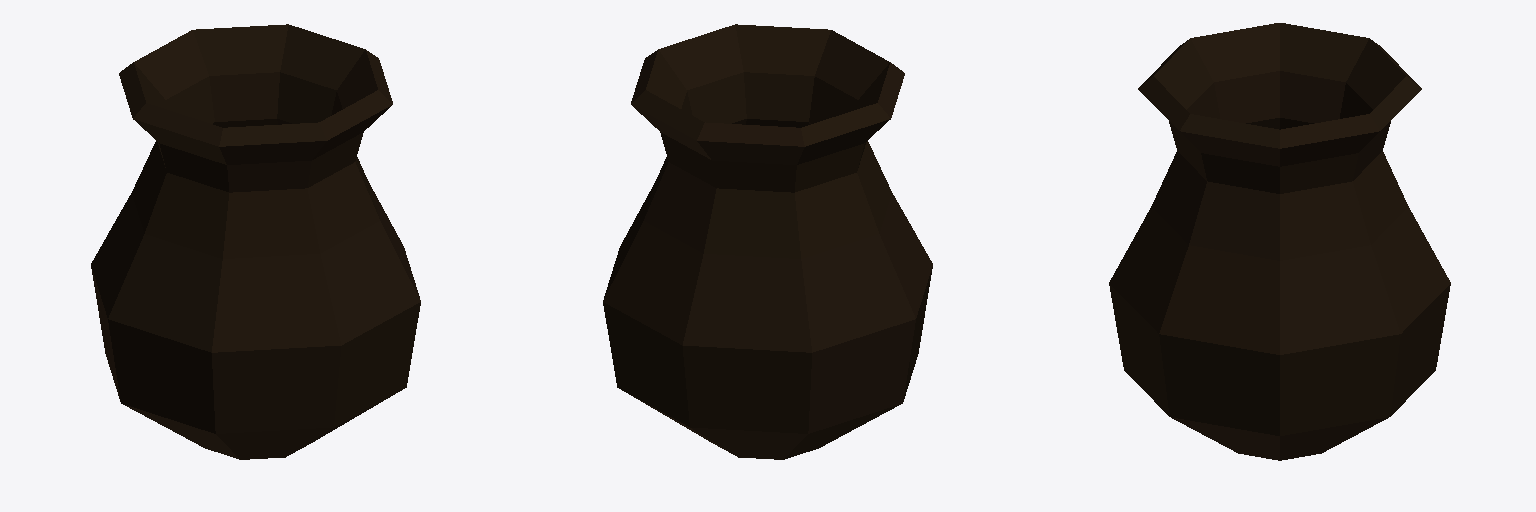
Rendered from Vase.obj.
3 renders of one model, left to right at view 1: azimuth 30°, elevation 25°; view 2: azimuth 150°, elevation 25°; view 3: azimuth 270°, elevation 25°, orthographic.
Visible parts, largest first — view 1: Vase_Cylinder.011; view 2: Vase_Cylinder.011; view 3: Vase_Cylinder.011.
Boxes of the visible parts, x1,y1,x2,y2 form: Vase_Cylinder.011: [91, 24, 420, 459]; Vase_Cylinder.011: [603, 24, 932, 459]; Vase_Cylinder.011: [1109, 23, 1450, 460].
Bounding box in the file's own units: 0.311 × 0.361 × 0.311.